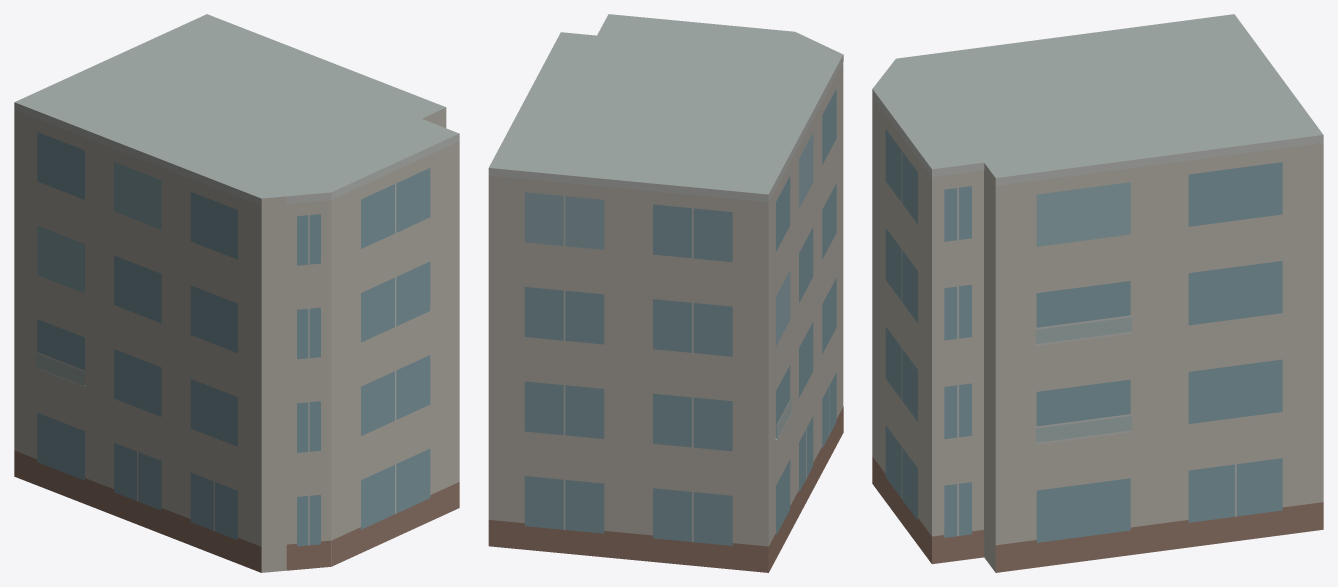
The model's file is residential-3d0d26a3-5086-46c6-b9e6-0d1b0a436b03.glb.
3 renders of one model, left to right at view 1: azimuth 30°, elevation 25°; view 2: azimuth 150°, elevation 25°; view 3: azimuth 270°, elevation 25°, orthographic. The views are drawn at different scales.
Parts seen in each view (by area): view 1: residential-3d0d26a3-5086-46c6-b9e6-0d1b0a436b03.tmp; view 2: residential-3d0d26a3-5086-46c6-b9e6-0d1b0a436b03.tmp; view 3: residential-3d0d26a3-5086-46c6-b9e6-0d1b0a436b03.tmp.
Part boxes in pixels (x1=…): residential-3d0d26a3-5086-46c6-b9e6-0d1b0a436b03.tmp: x1=14, y1=14, x2=459, y2=572; residential-3d0d26a3-5086-46c6-b9e6-0d1b0a436b03.tmp: x1=488, y1=14, x2=843, y2=572; residential-3d0d26a3-5086-46c6-b9e6-0d1b0a436b03.tmp: x1=872, y1=14, x2=1323, y2=572.
Size of the model in its own units: 10.89 by 12.2 by 12.65.
